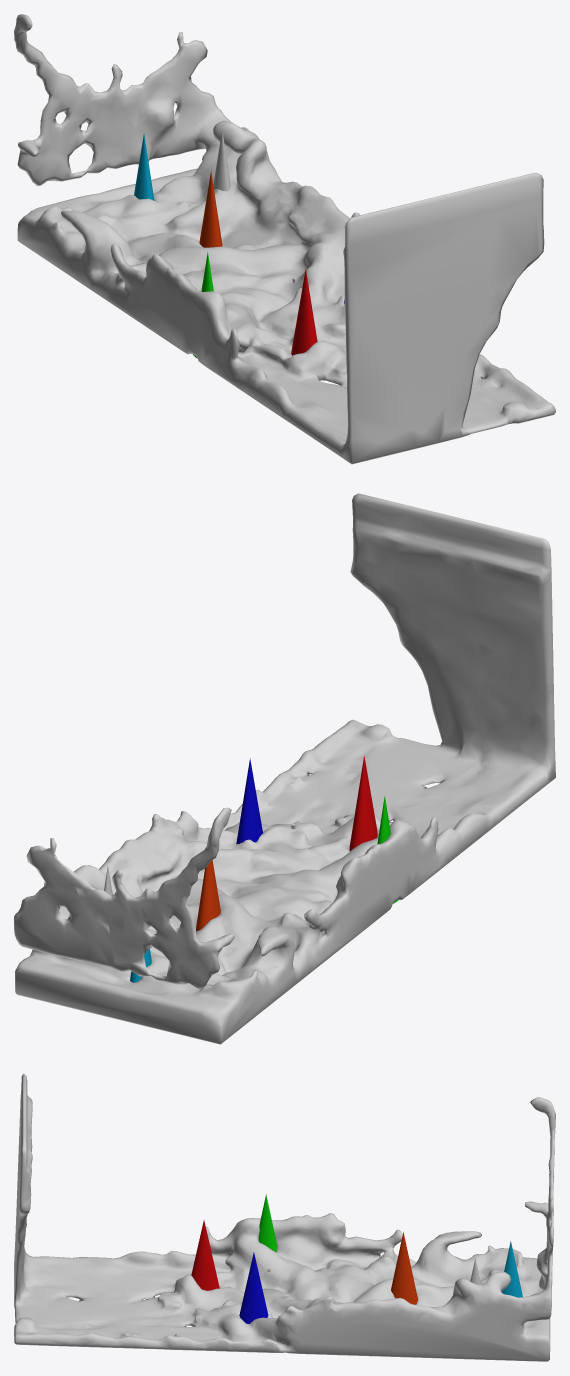
The picture shows the model from 3 angles, top to bottom: view 1: azimuth 30°, elevation 25°; view 2: azimuth 150°, elevation 25°; view 3: azimuth 270°, elevation 25°; orthographic projection. The views are drawn at different scales.
Visible parts, largest first — view 1: Liquid_Domain, 円錐.001, 円錐.004, 円錐.005, 円錐; view 2: Liquid_Domain, 円錐.001, 円錐.002, 円錐.004; view 3: Liquid_Domain, 円錐.002, 円錐.001, 円錐.004, 円錐.003, 円錐.005.
Boxes of the visible parts, x1,y1,x2,y2 form: Liquid_Domain: [14, 14, 555, 464]; 円錐.001: [291, 269, 317, 355]; 円錐.004: [199, 171, 222, 247]; 円錐.005: [134, 133, 154, 200]; 円錐: [213, 130, 230, 191]; Liquid_Domain: [14, 493, 555, 1044]; 円錐.001: [349, 756, 377, 850]; 円錐.002: [236, 758, 262, 844]; 円錐.004: [196, 860, 220, 931]; Liquid_Domain: [14, 1073, 555, 1361]; 円錐.002: [239, 1252, 268, 1323]; 円錐.001: [191, 1220, 219, 1290]; 円錐.004: [391, 1232, 417, 1304]; 円錐.003: [258, 1194, 277, 1251]; 円錐.005: [501, 1241, 522, 1297].
Size of the model in its own units: 129 by 158 by 365.
